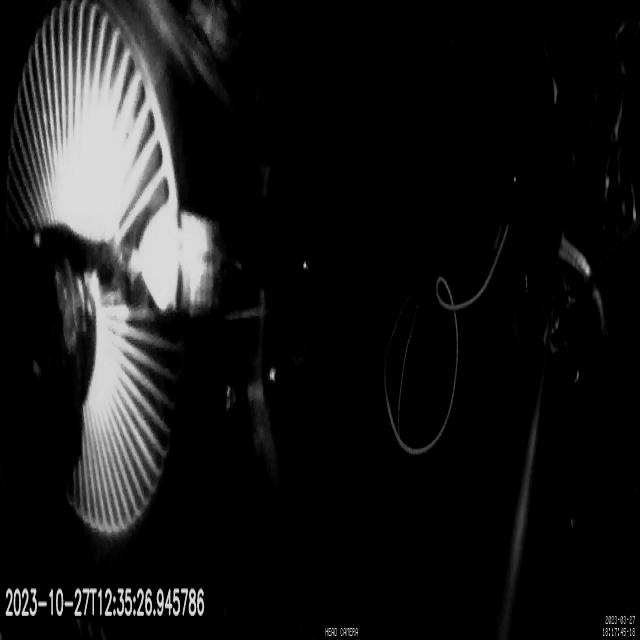head: (143, 207, 225, 319)
